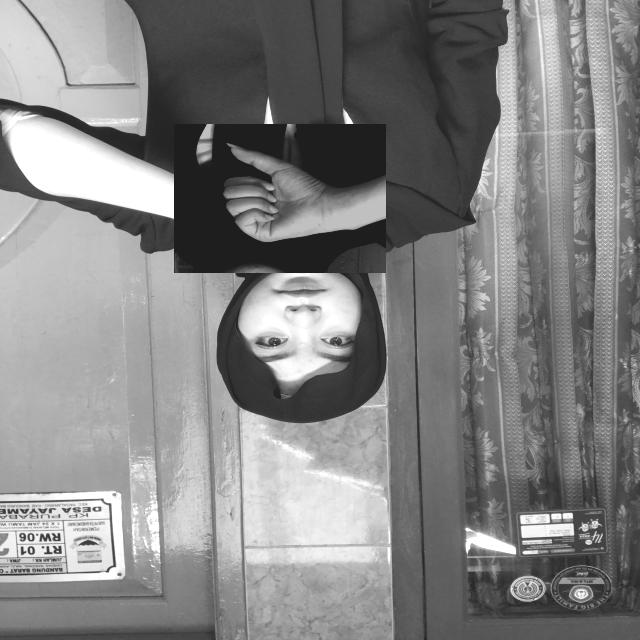sedih: (174, 124, 386, 273)
